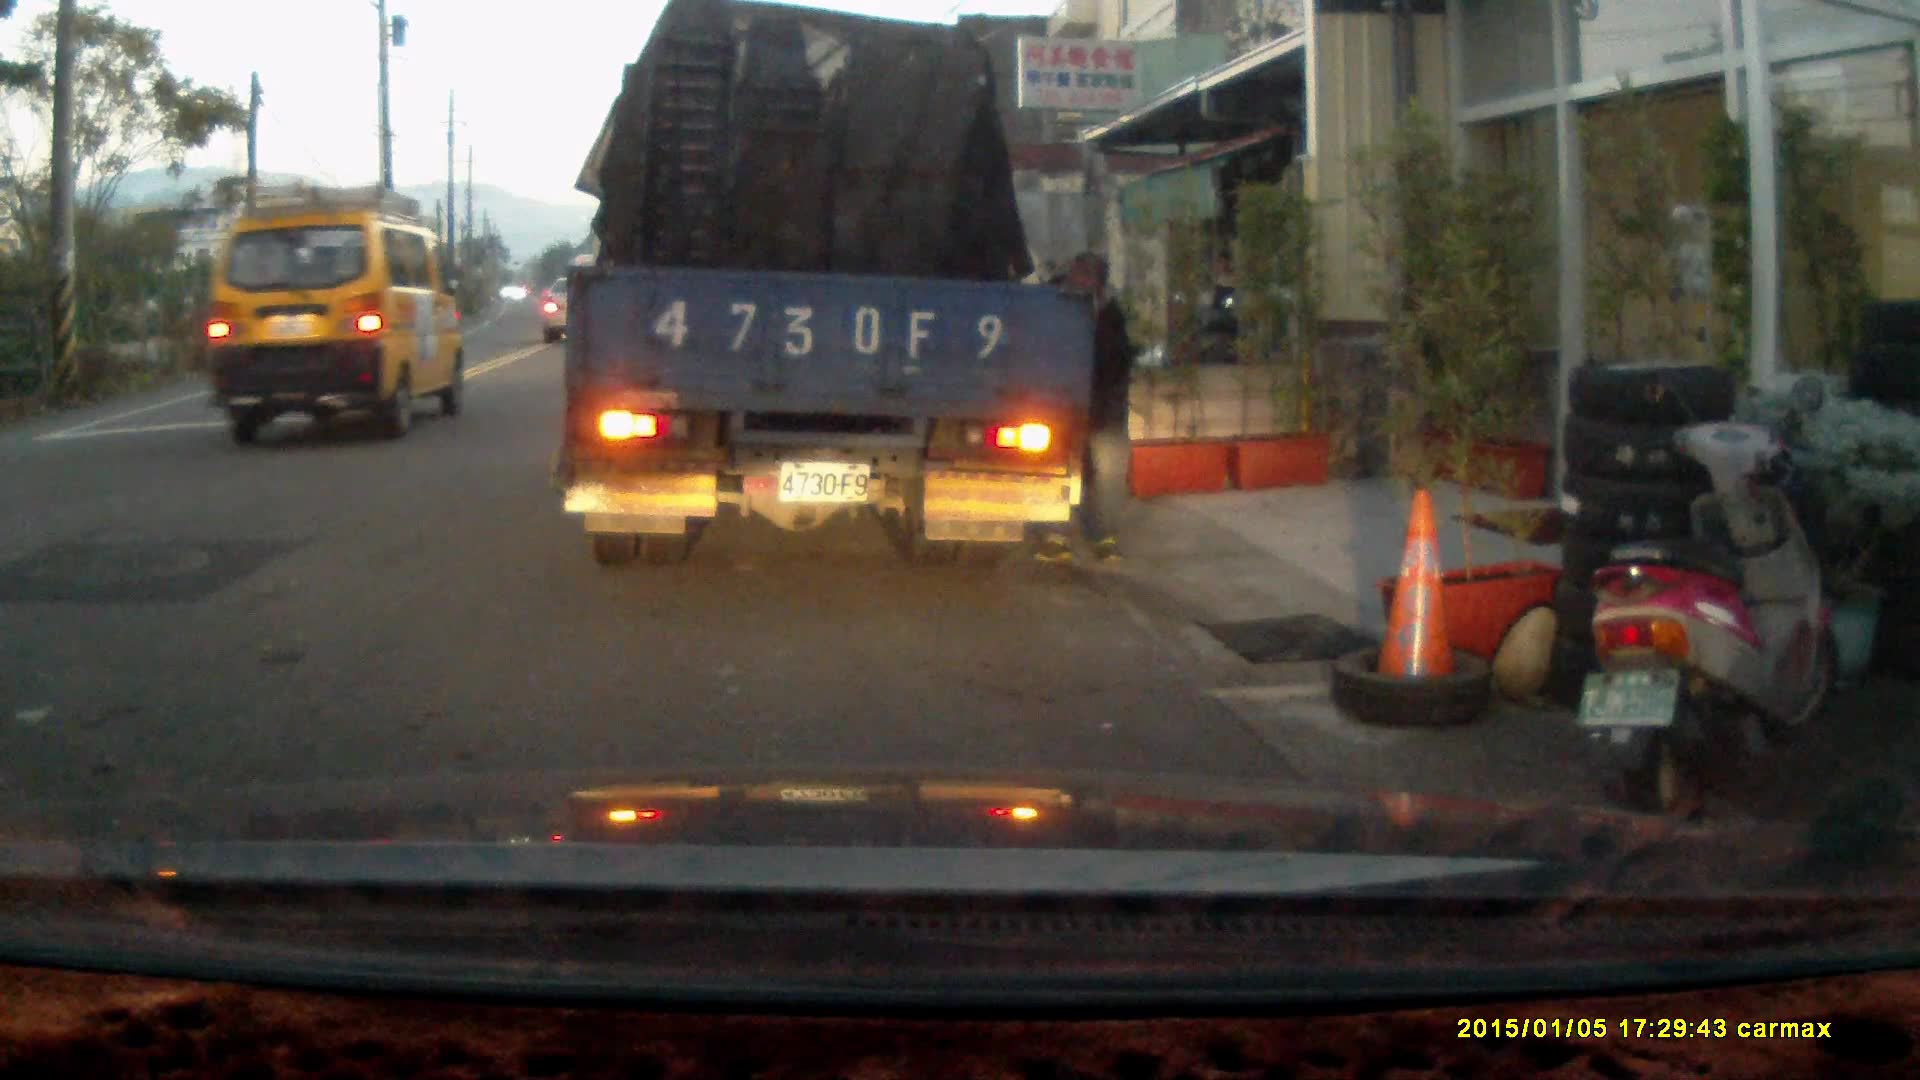pedestrian: (1030, 249, 1134, 564)
vehicle: (562, 24, 1086, 562), (193, 182, 470, 446), (542, 278, 602, 344)
